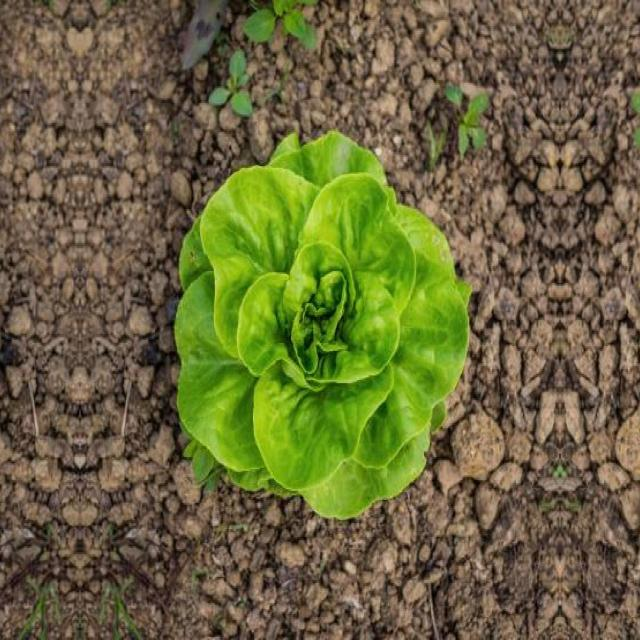healthy: (167, 125, 475, 525)
